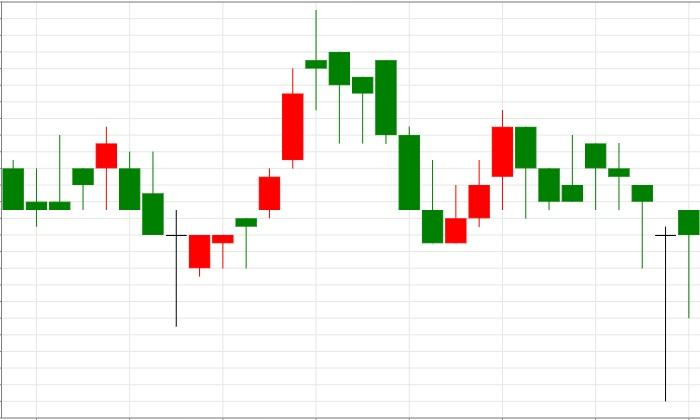inverse_hammer_rise: (305, 8, 443, 243)
